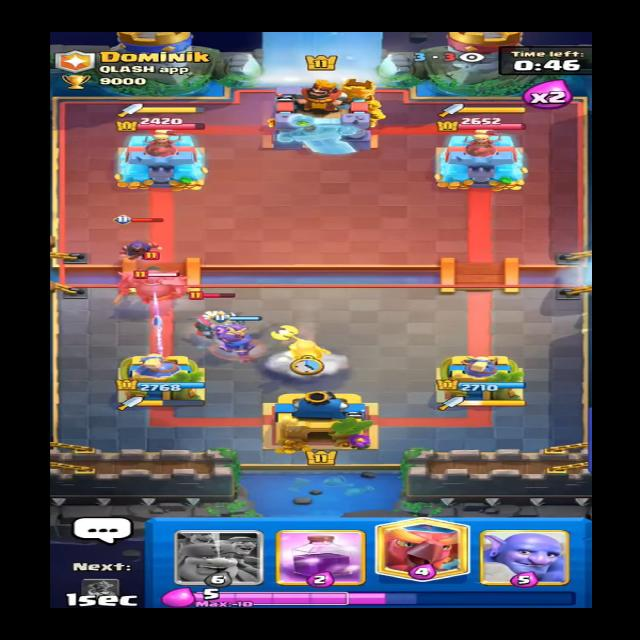Evowizard: (115, 219, 166, 263)
Pekka: (114, 266, 192, 308)
Royalghost: (178, 293, 246, 338)
